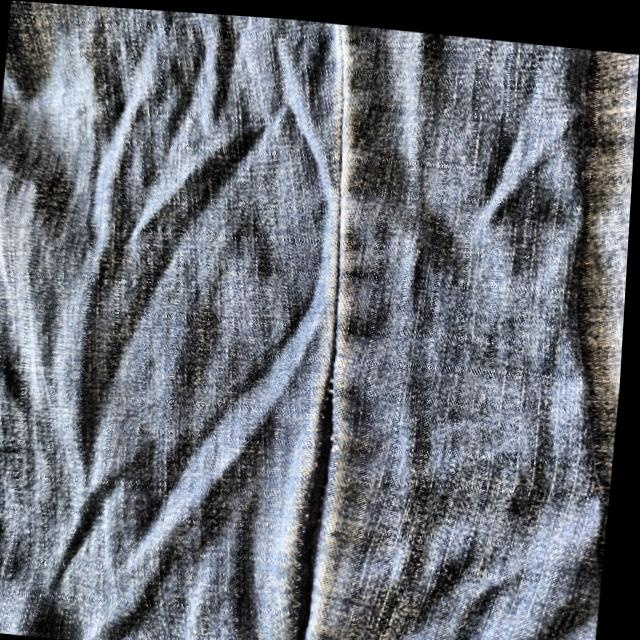seam: (256, 376, 377, 640)
